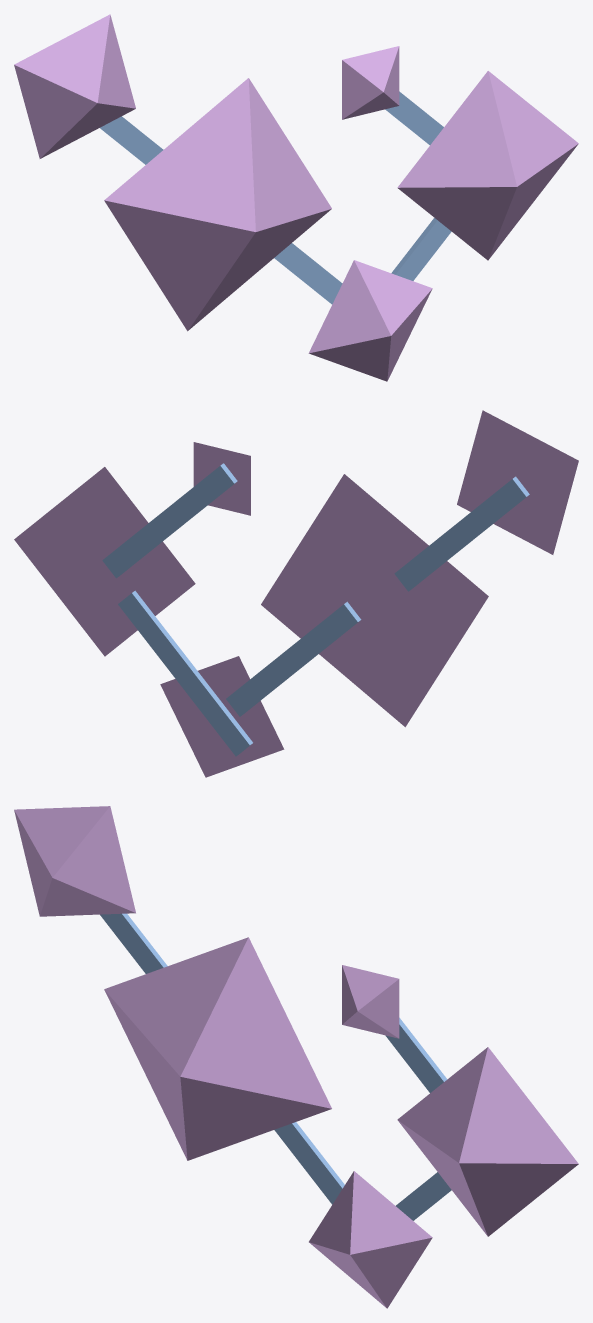
File: walldecor1.fbx
3 renders of one model, top to bottom at view 1: azimuth 30°, elevation 25°; view 2: azimuth 150°, elevation 25°; view 3: azimuth 330°, elevation 25°, orthographic.
Parts seen in each view (by area): view 1: walldecor1_low; view 2: walldecor1_low; view 3: walldecor1_low.
Boxes of the visible parts, x1,y1,x2,y2 form: walldecor1_low: (14, 14, 578, 381); walldecor1_low: (14, 410, 578, 777); walldecor1_low: (14, 806, 578, 1308).
Size of the model in its own units: 3.38 by 2.49 by 0.4276.
